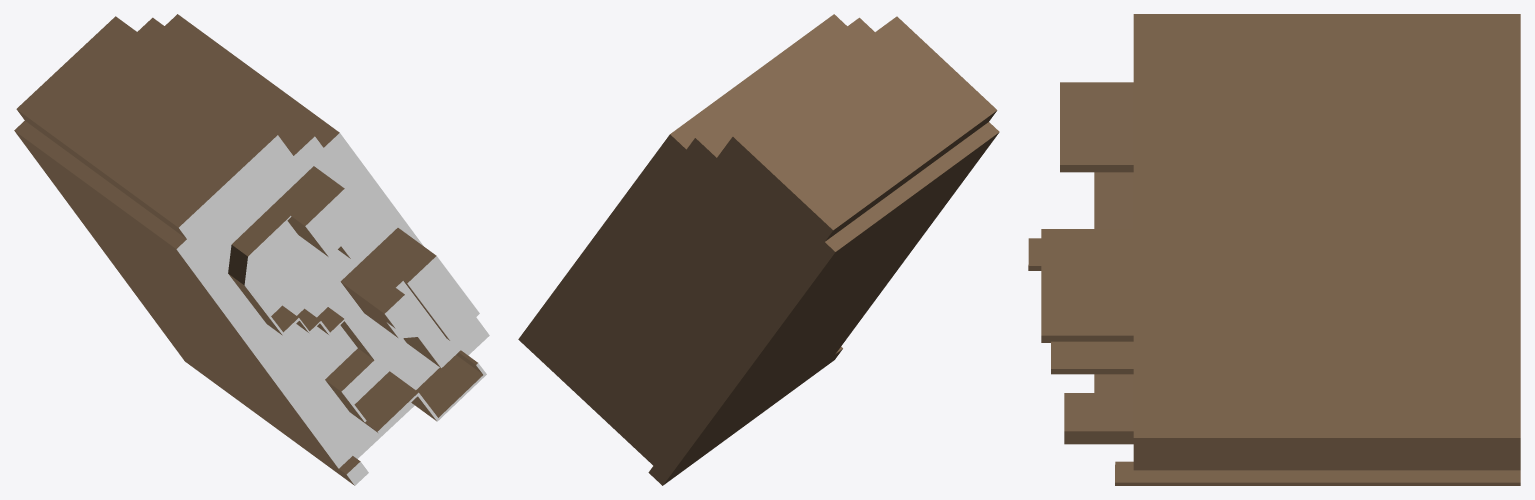
The picture shows the model from 3 angles, left to right: view 1: azimuth 30°, elevation 25°; view 2: azimuth 150°, elevation 25°; view 3: azimuth 270°, elevation 25°; orthographic projection. The views are drawn at different scales.
Visible parts, largest first — view 1: City_2317082; view 2: City_2317082; view 3: City_2317082.
Boxes of the visible parts, left/top/right/bottom form: City_2317082: left=14, top=14, right=489, bottom=485; City_2317082: left=518, top=14, right=999, bottom=485; City_2317082: left=1028, top=14, right=1520, bottom=485.
Size of the model in its own units: 1427 by 1575 by 1627.
